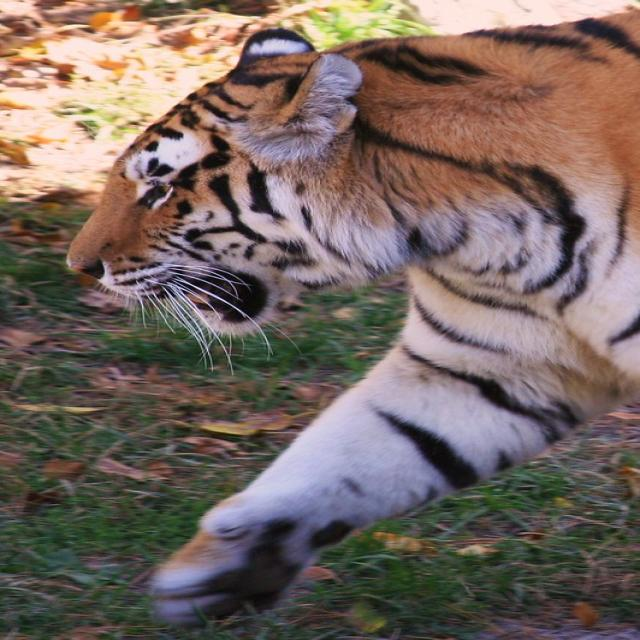Tiger: (61, 7, 636, 627)
